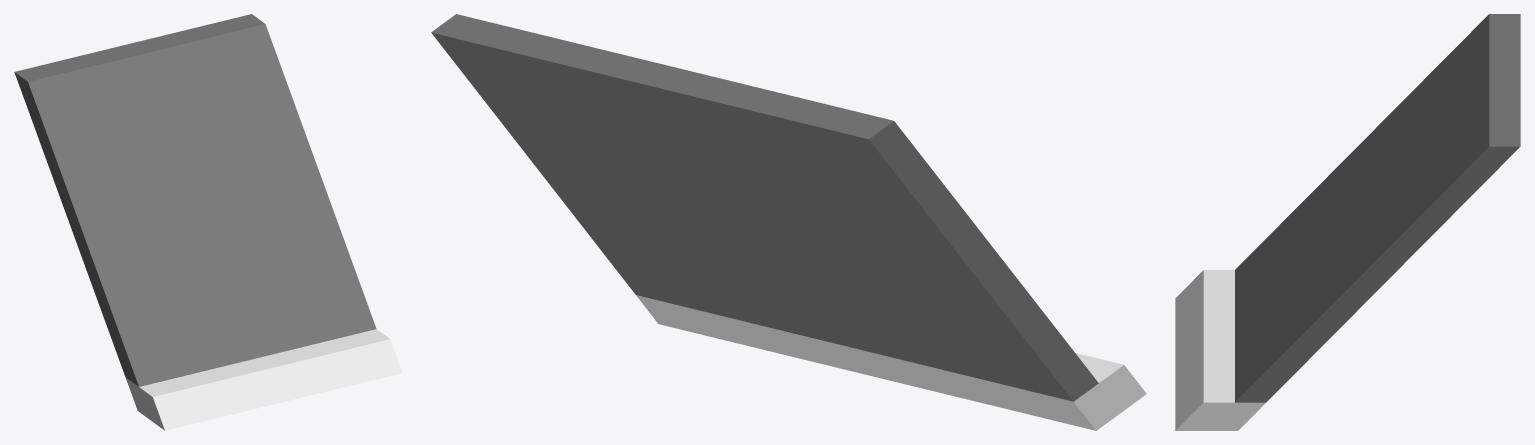
File: RoofSlopeSmall.glb
3 views of the same model, side by side, from view 1: azimuth 30°, elevation 25°; view 2: azimuth 150°, elevation 25°; view 3: azimuth 270°, elevation 25° (orthographic). The views are drawn at different scales.
Visible parts, largest first — view 1: RoofSlopeSmall; view 2: RoofSlopeSmall; view 3: RoofSlopeSmall.
Part boxes in pixels (<box>): RoofSlopeSmall: <box>14,14,402,430</box>; RoofSlopeSmall: <box>431,14,1146,430</box>; RoofSlopeSmall: <box>1175,14,1520,430</box>.
Size of the model in its own units: 1 by 1 by 1.1.
1 material, 1 textured.
